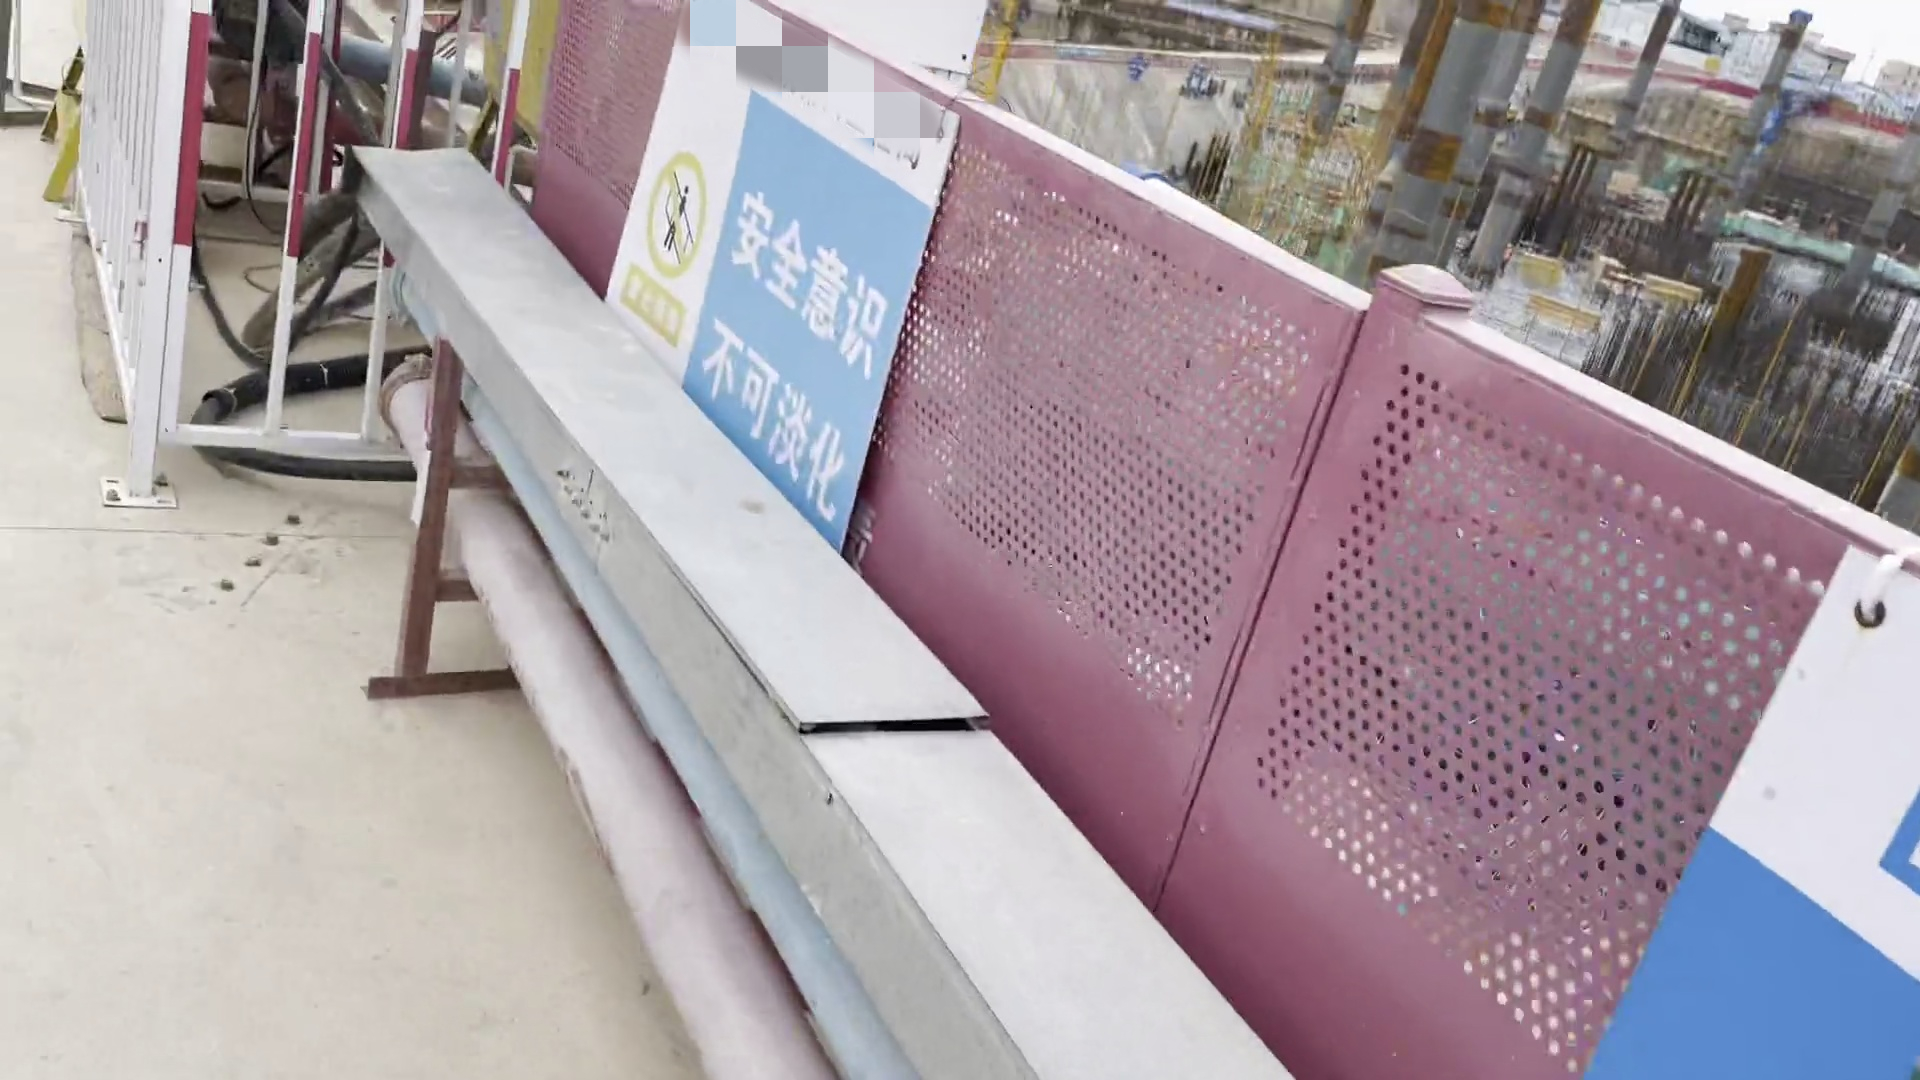board: (1513, 243, 1708, 349)
fence: (872, 187, 1443, 1080), (1424, 326, 1920, 1080), (530, 3, 1130, 589)
slogan: (1503, 459, 1920, 1080), (575, 1, 982, 596)
